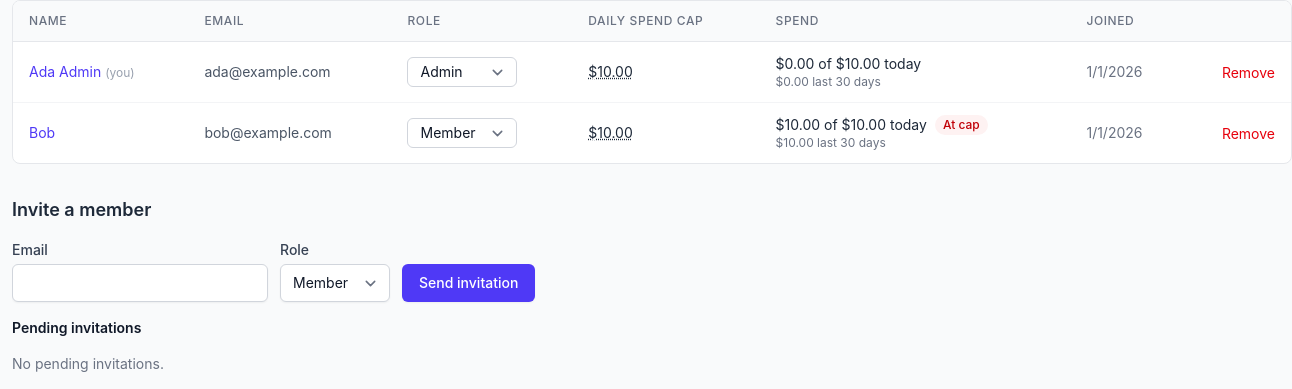
PeopleManager › reads usage against the new cap once it is saved
The width and height of the screenshot is (1292, 389).
Expected: the text "At cap" is shown, [935,115,988,135]
Click the button named "Edit daily spend cap for Bob" at {"x": 611, "y": 133}, box [588,123,633,143]
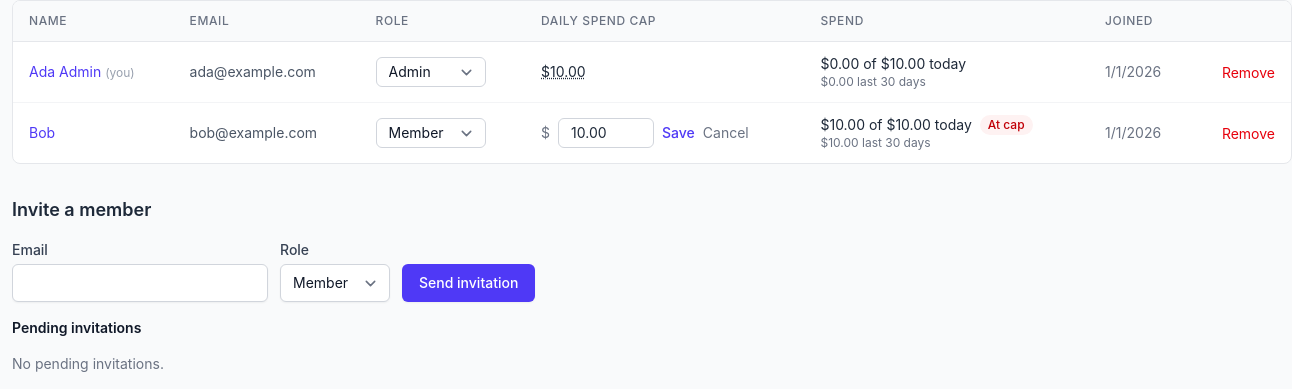
Replace the text in the number field named "Daily spend cap for Bob (USD)" with "25.50" at {"x": 606, "y": 133}, box [558,118,654,148]
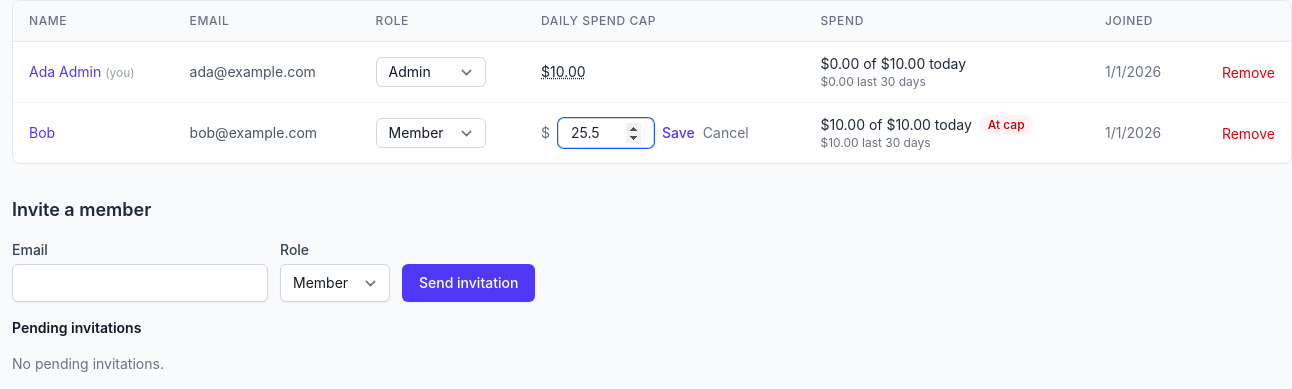
Click the button "Save" at {"x": 678, "y": 133}, box [662,123,695,143]
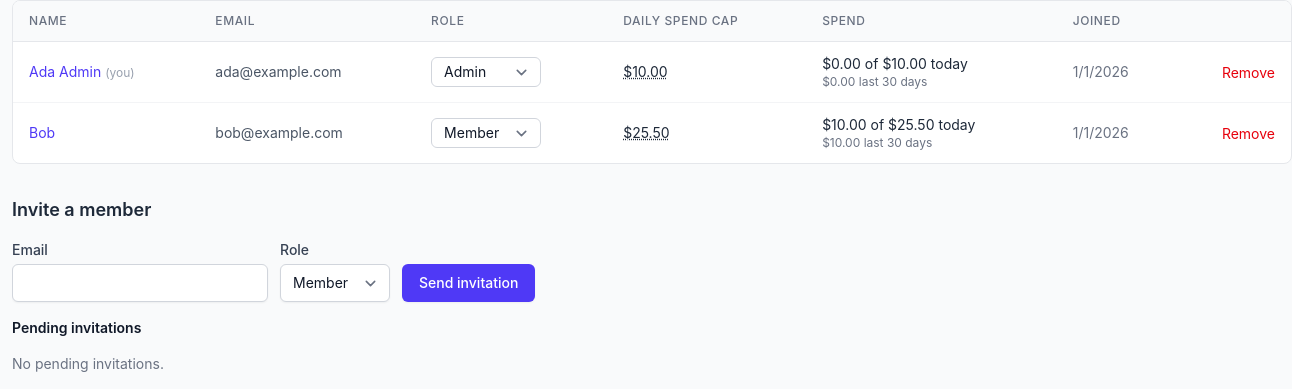
Result: the text "$10.00 of $25.50 today" is shown at [822,115,975,135]
Result: the text "At cap" is gone
